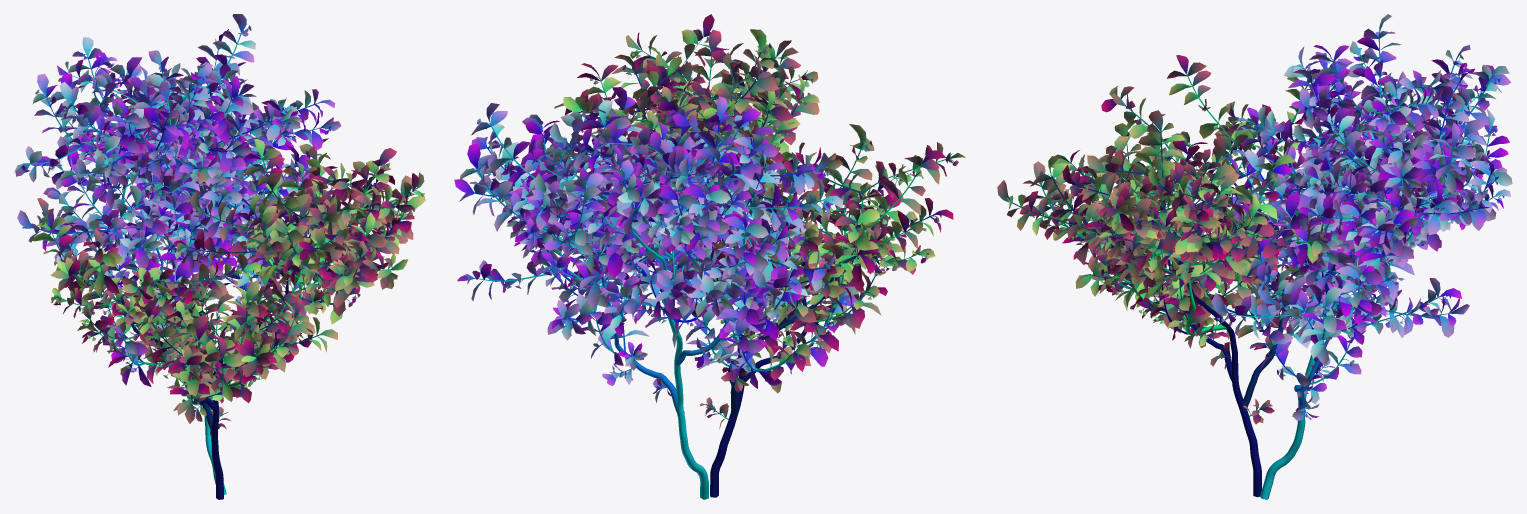
Rendered from wk1ncbxja_VarD_LOD0.fbx.
The picture shows the model from 3 angles, left to right: view 1: azimuth 30°, elevation 25°; view 2: azimuth 150°, elevation 25°; view 3: azimuth 270°, elevation 25°; orthographic projection. The views are drawn at different scales.
Parts seen in each view (by area): view 1: _4gjn_VarD_LOD2; view 2: _4gjn_VarD_LOD2; view 3: _4gjn_VarD_LOD2.
Part boxes in pixels (x1,y1,x2,y2): _4gjn_VarD_LOD2: (14, 14, 425, 499); _4gjn_VarD_LOD2: (454, 14, 965, 499); _4gjn_VarD_LOD2: (997, 14, 1512, 499).
Size of the model in its own units: 253 by 275 by 298.
